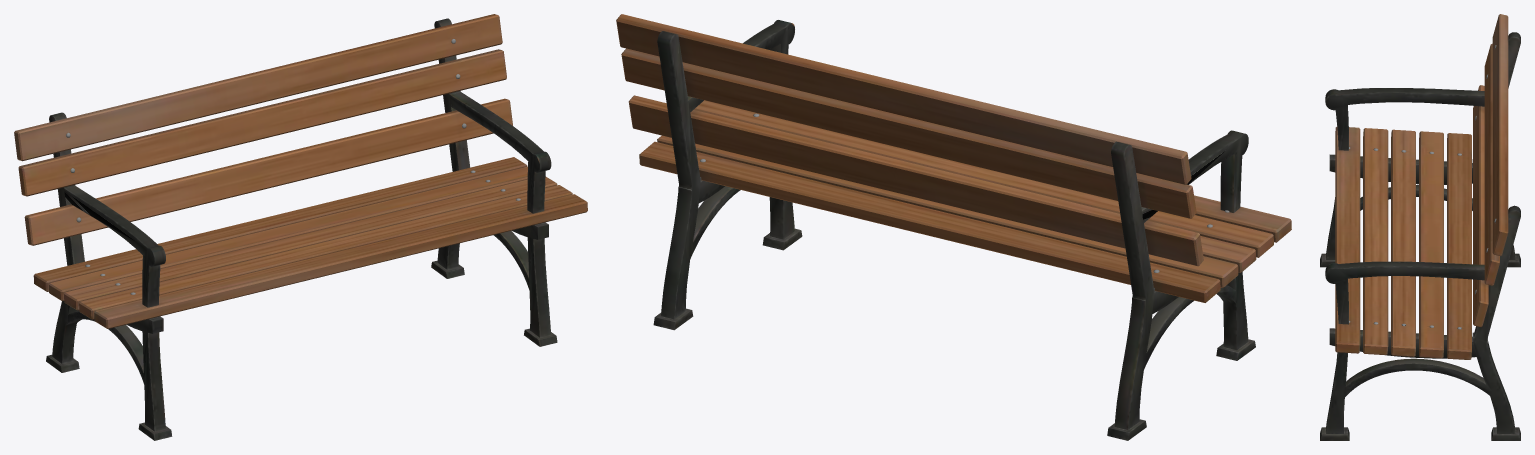
Rendered from park-bench.glb.
3 renders of one model, left to right at view 1: azimuth 30°, elevation 25°; view 2: azimuth 150°, elevation 25°; view 3: azimuth 270°, elevation 25°, orthographic. The views are drawn at different scales.
Parts seen in each view (by area): view 1: park-bench_body; view 2: park-bench_body; view 3: park-bench_body.
Boxes of the visible parts, x1,y1,x2,y2 form: park-bench_body: [14, 14, 587, 440]; park-bench_body: [616, 14, 1291, 440]; park-bench_body: [1320, 14, 1520, 440].
Bounding box in the file's own units: 1.8 × 0.8842 × 0.704.
1 material, 1 textured.
